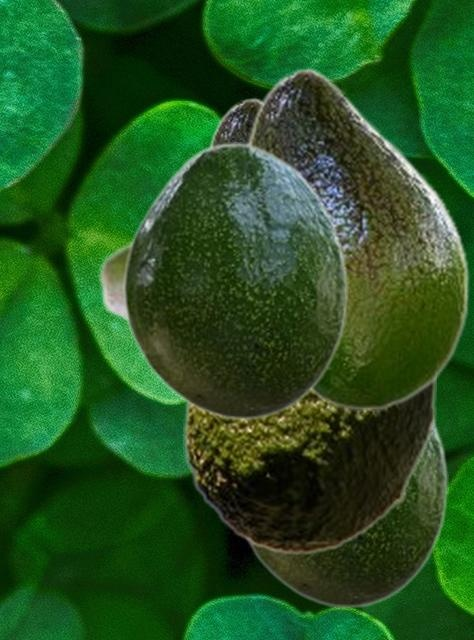avocado: (243, 67, 469, 410), (122, 142, 347, 420), (183, 384, 435, 555), (243, 414, 447, 608), (96, 235, 131, 327), (205, 97, 261, 146)
